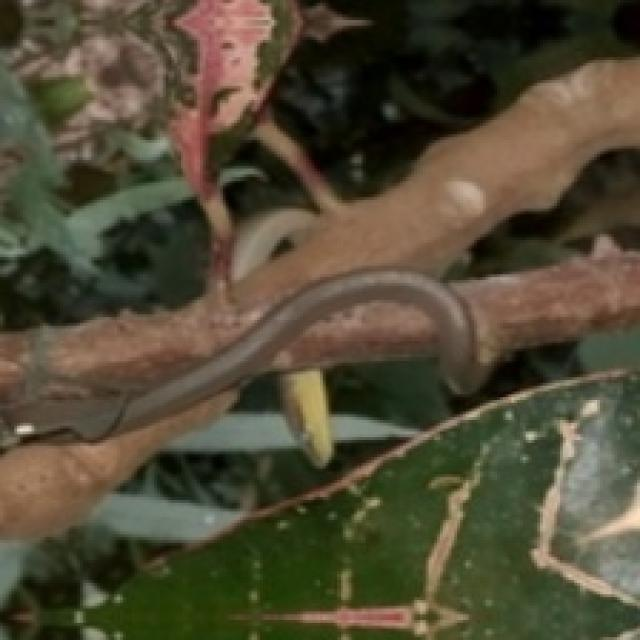red-tailed green ratsnake: (82, 270, 492, 439), (231, 208, 318, 281), (279, 369, 334, 469)
